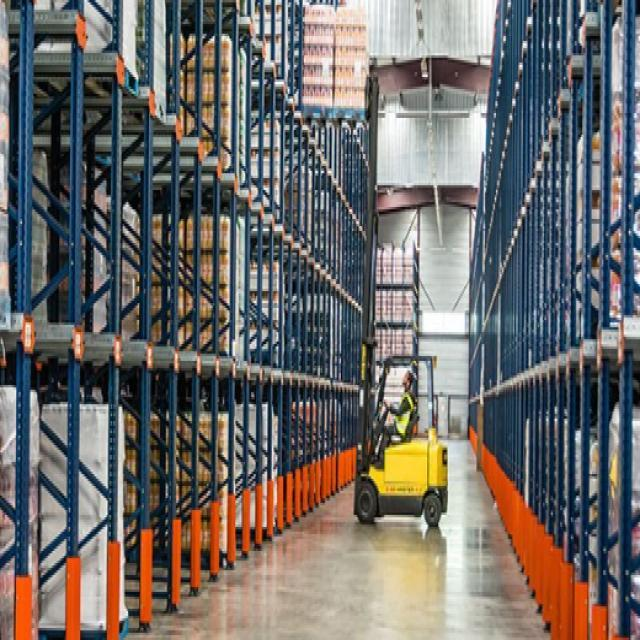shoes: (373, 450, 385, 472)
vest: (393, 391, 414, 440)
